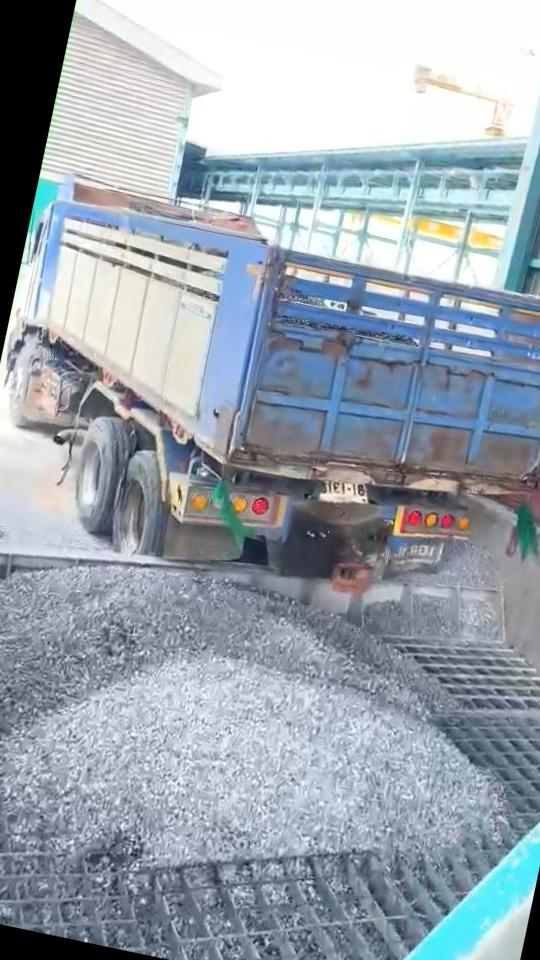gravel: (0, 566, 503, 862), (362, 544, 506, 647)
